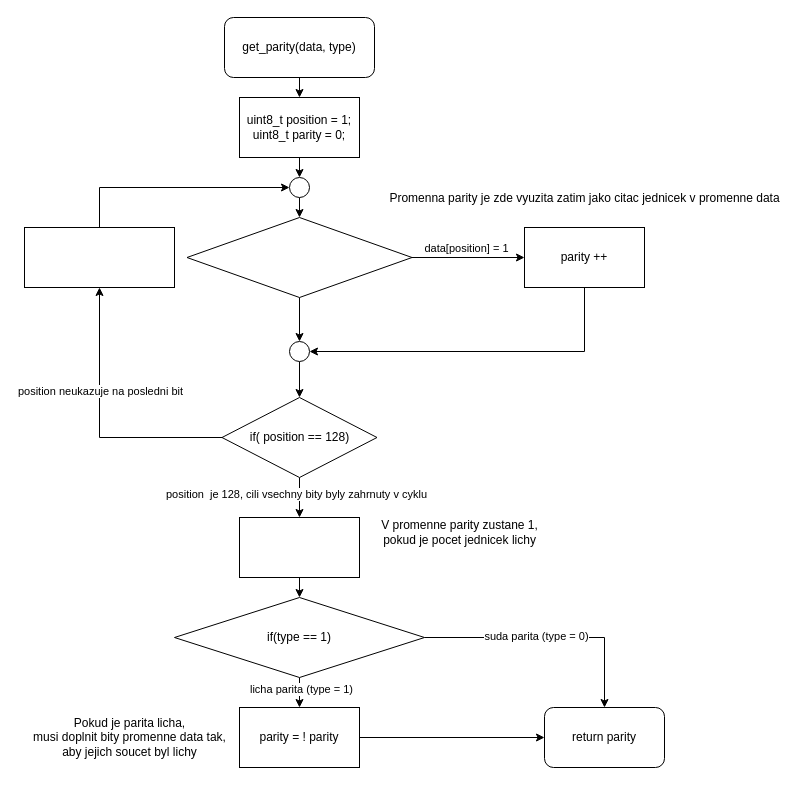
The diagram is 806 pixels wide and 785 high, and some of its shapes have lost their labels. Each missing label, with the box of its shape:
if ((data & position) != 0): (186, 216, 412, 298)
parity = parity % 2: (238, 516, 360, 578)
position = position << 1: (24, 226, 174, 288)
